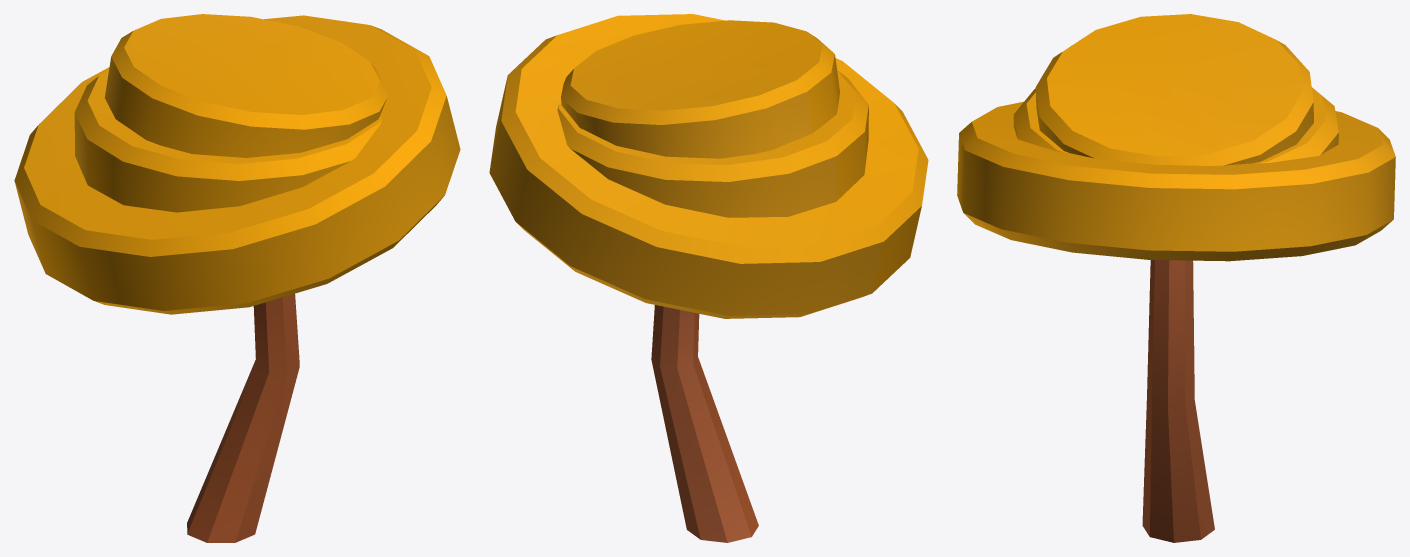
The model's file is tree_5_yellow.fbx.
3 renders of one model, left to right at view 1: azimuth 30°, elevation 25°; view 2: azimuth 150°, elevation 25°; view 3: azimuth 270°, elevation 25°, orthographic.
Visible parts, largest first — view 1: tree_5_yellow; view 2: tree_5_yellow; view 3: tree_5_yellow.
Part boxes in pixels (<box>): tree_5_yellow: <box>14,14,460,542</box>; tree_5_yellow: <box>489,14,928,542</box>; tree_5_yellow: <box>957,14,1395,542</box>.
Bounding box in the file's own units: 568 × 676 × 567.
